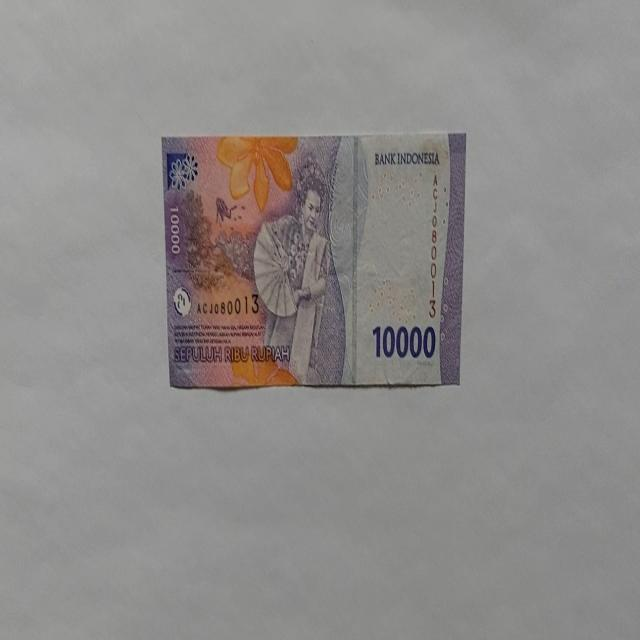sepuluh ribu rupiah: (161, 130, 466, 392), (371, 321, 437, 361)
